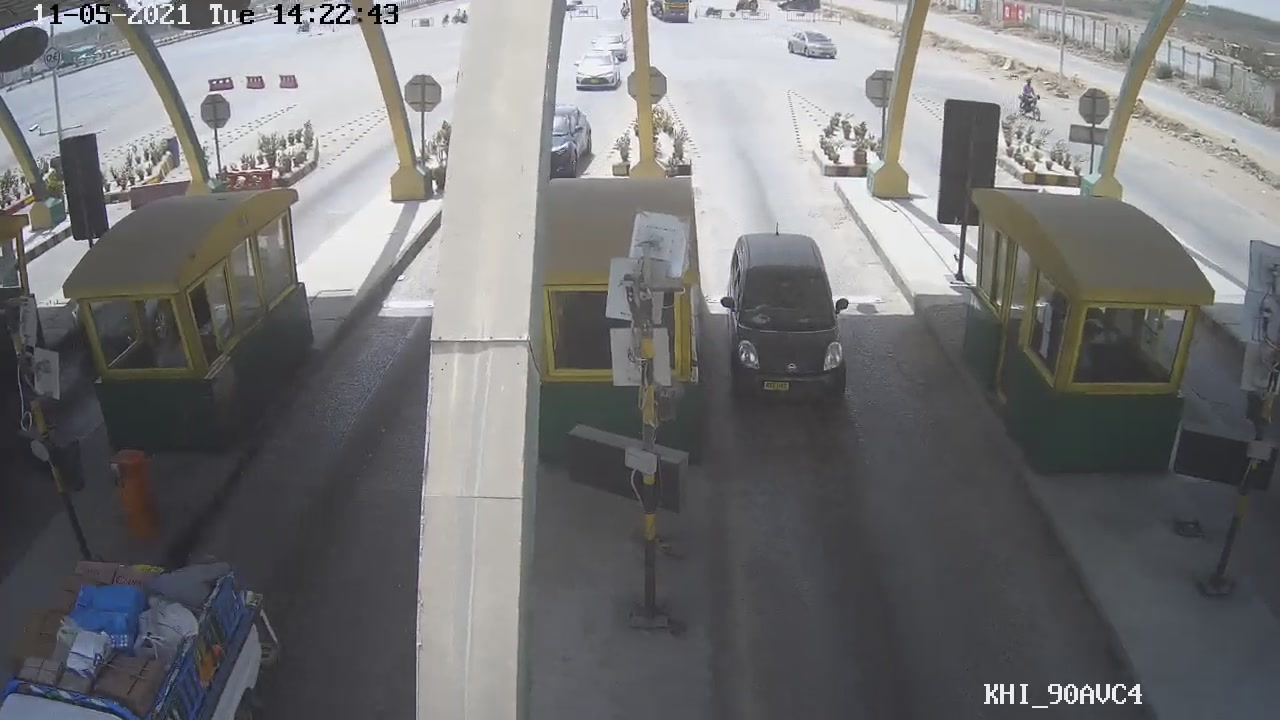F1: (715, 227, 859, 415)
